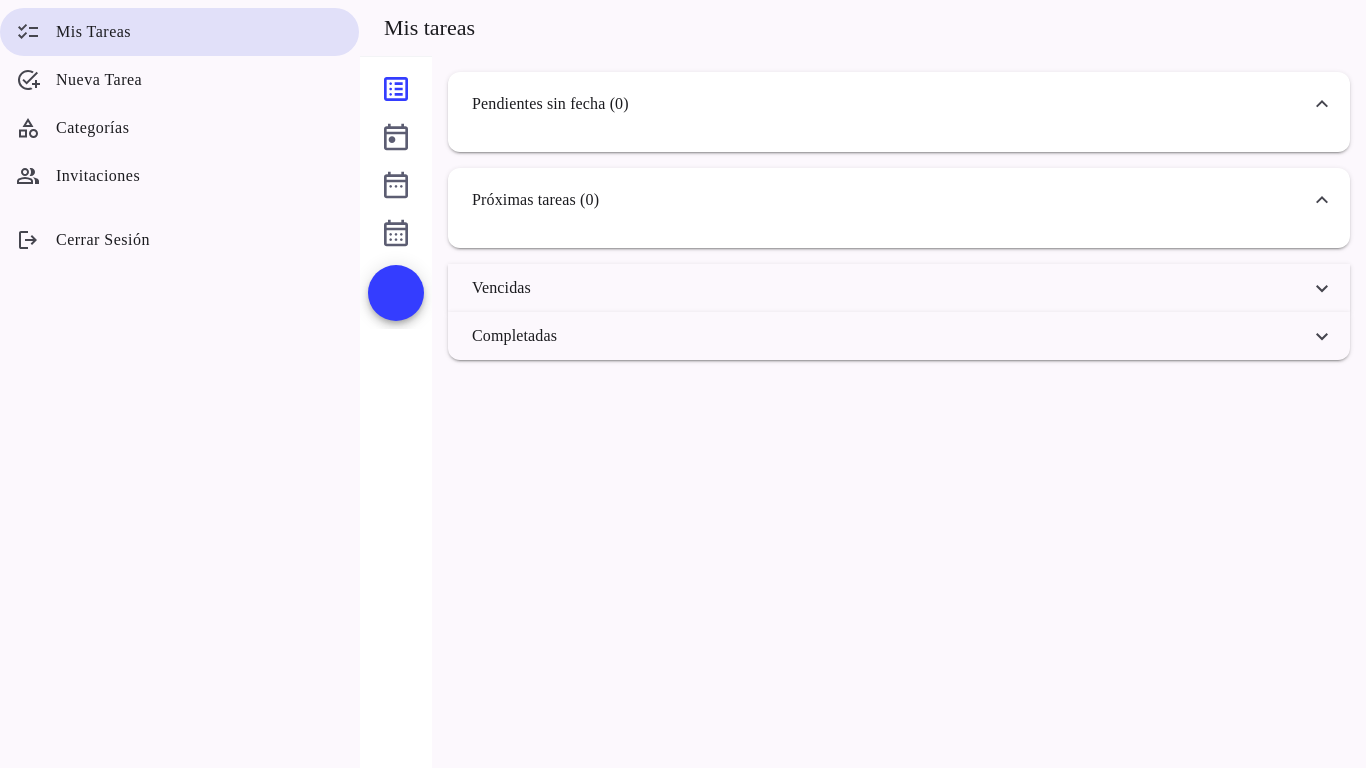
Test: Prueba E2E de Tareas › debe permitir crear una tarea simple desde el diálogo y listarla en la lista de tareas sin fecha
The width and height of the screenshot is (1366, 768).
Note: Abrir el diálogo
Click the button named "Añadir tarea" at (396, 293), box x1=368 y1=265 x2=424 y2=321
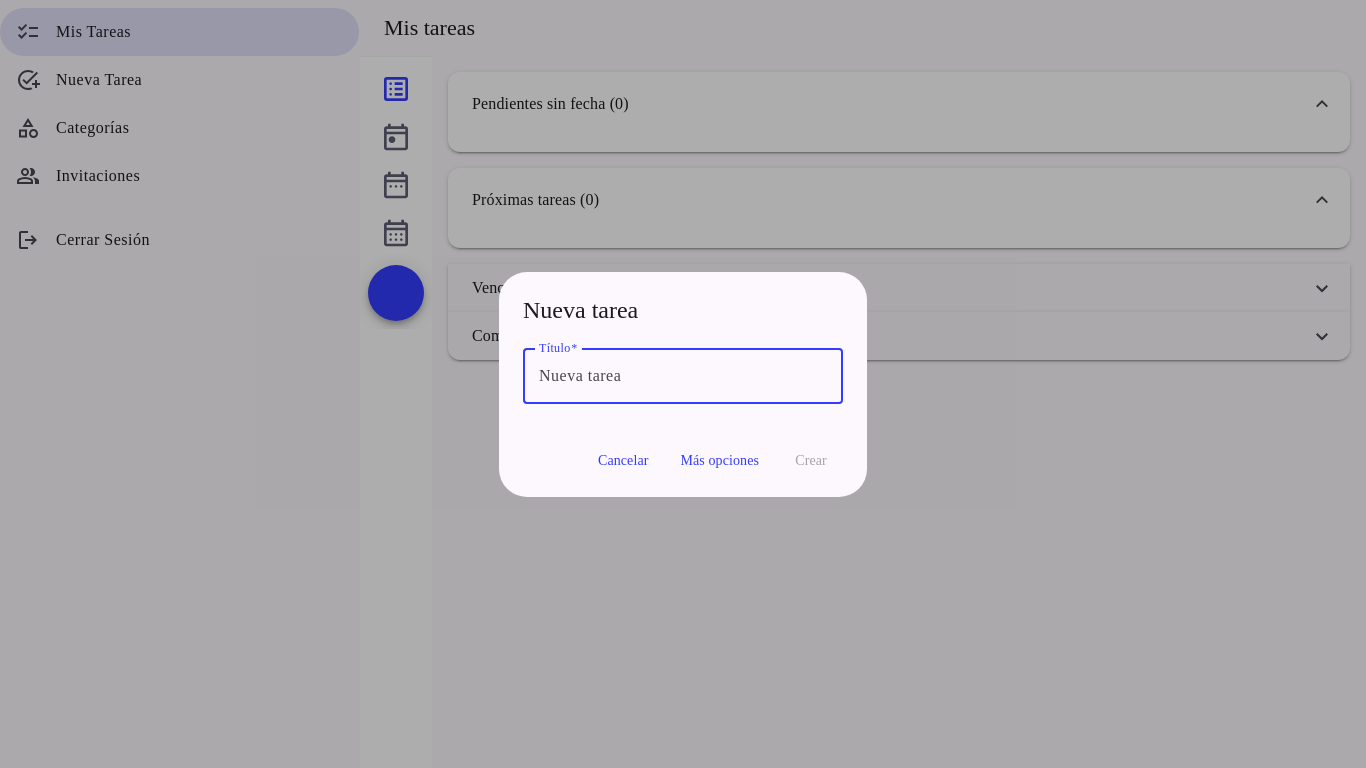
Now the heading "Nueva tarea" is shown, box x1=523 y1=296 x2=638 y2=322
Now the field with placeholder "Nueva tarea" is shown
Note: Introducir título y crear
Type "Mi nueva tarea simple" into the field with placeholder "Nueva tarea" at (683, 376), box x1=539 y1=364 x2=827 y2=388
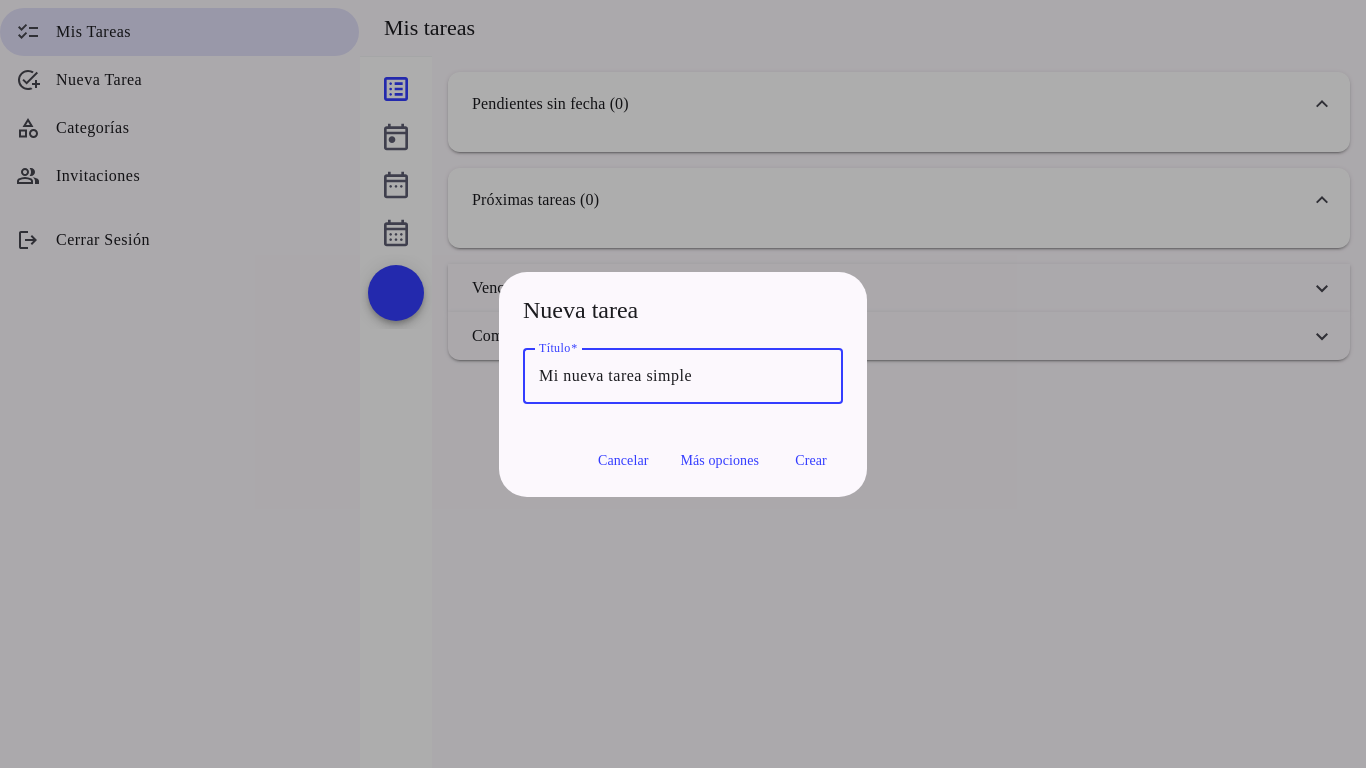
Expected: the text "Crear" is enabled
Click the button "Crear" at (811, 461), box x1=779 y1=441 x2=843 y2=481
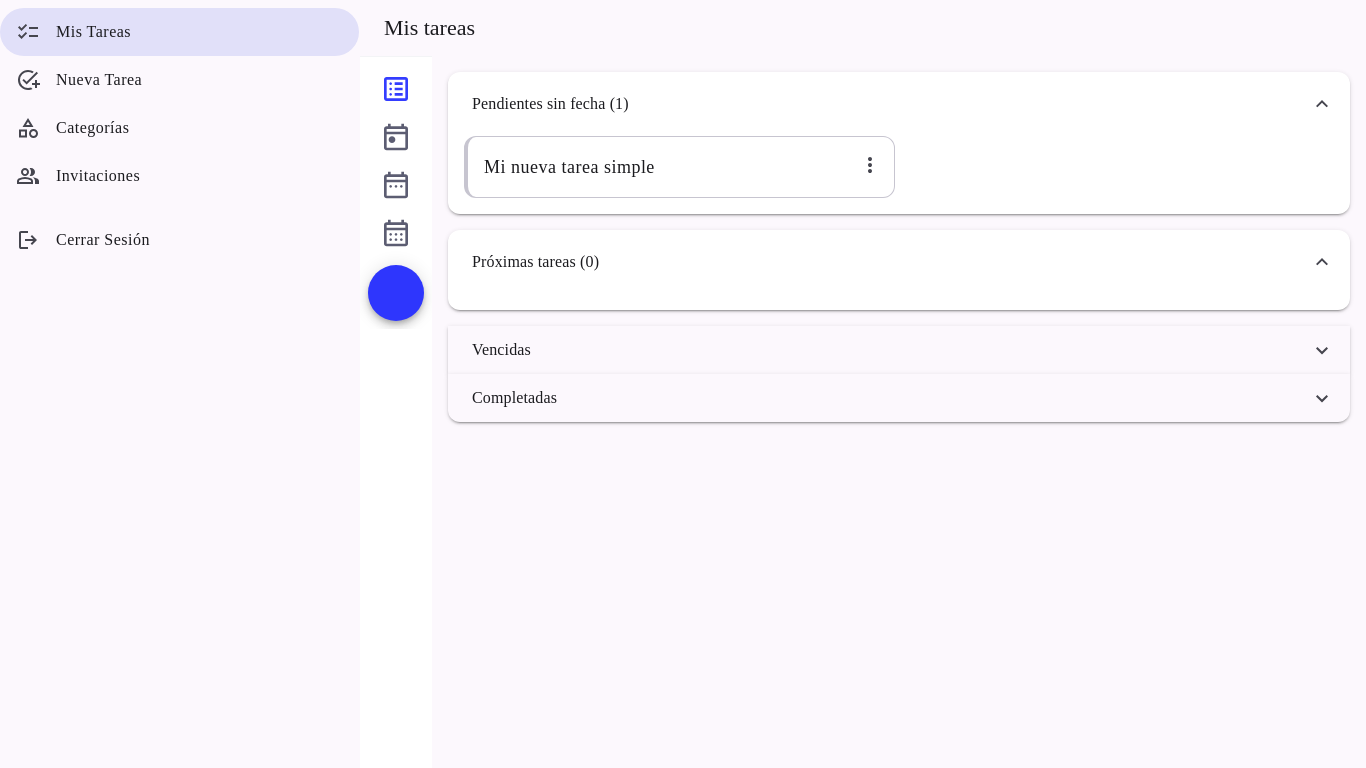
Expected: the text "Pendientes sin fecha" is shown, x1=472 y1=95 x2=629 y2=112
Now the heading "Mi nueva tarea simple" is shown, box x1=484 y1=157 x2=655 y2=177
